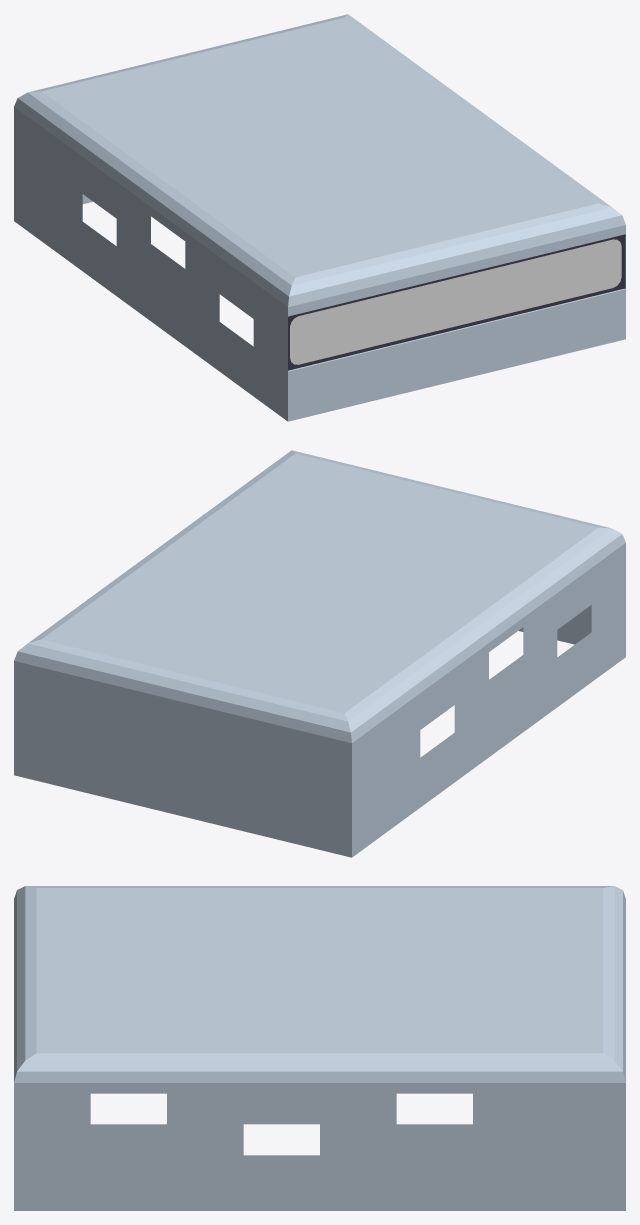
The model's file is Walls.fbx.
3 views of the same model, one above another, from view 1: azimuth 30°, elevation 25°; view 2: azimuth 150°, elevation 25°; view 3: azimuth 270°, elevation 25° (orthographic). The views are drawn at different scales.
Visible parts, largest first — view 1: Interior walls; view 2: Interior walls; view 3: Interior walls.
Boxes of the visible parts, box(x1,y1,x2,y2) form: Interior walls: box(14, 14, 625, 421); Interior walls: box(14, 450, 625, 857); Interior walls: box(14, 886, 625, 1210).
Bounding box in the file's own units: 6595 × 2475 × 9263.
